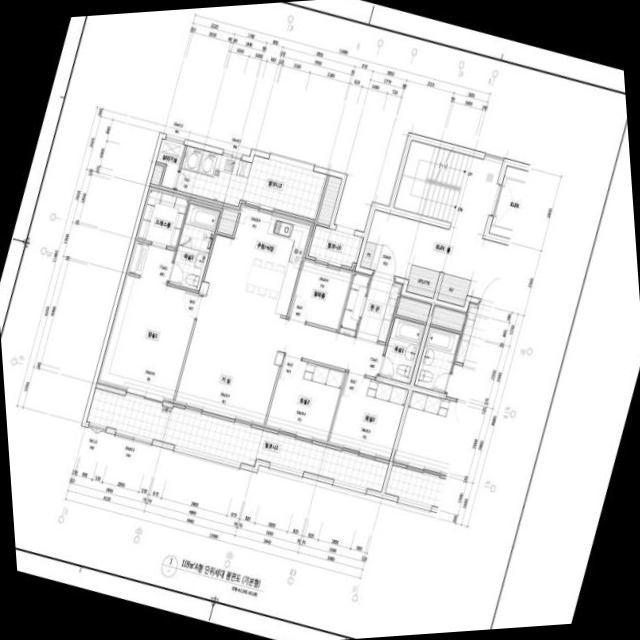background: (0, 0, 640, 640)
space_balconi: (85, 387, 387, 491), (175, 145, 326, 219), (307, 225, 362, 266)
space_bedroom: (96, 240, 200, 402), (327, 372, 407, 460), (264, 356, 344, 443)
space_dressroom: (135, 186, 188, 247)
space_elevator: (488, 165, 527, 238)
space_elevator_hall: (366, 156, 507, 301)
space_front: (340, 271, 402, 343)
space_kitchen: (203, 203, 313, 315)
space_living_room: (173, 296, 384, 426)
space_other: (288, 257, 352, 329), (316, 175, 341, 225), (405, 264, 439, 297), (436, 273, 470, 306), (395, 295, 430, 322), (216, 205, 238, 235), (359, 241, 375, 268), (149, 163, 163, 185)
space_outdoor_room: (155, 138, 184, 188)
space_staircase: (393, 140, 469, 222)
space_toilet: (168, 203, 219, 290), (378, 316, 425, 383)
